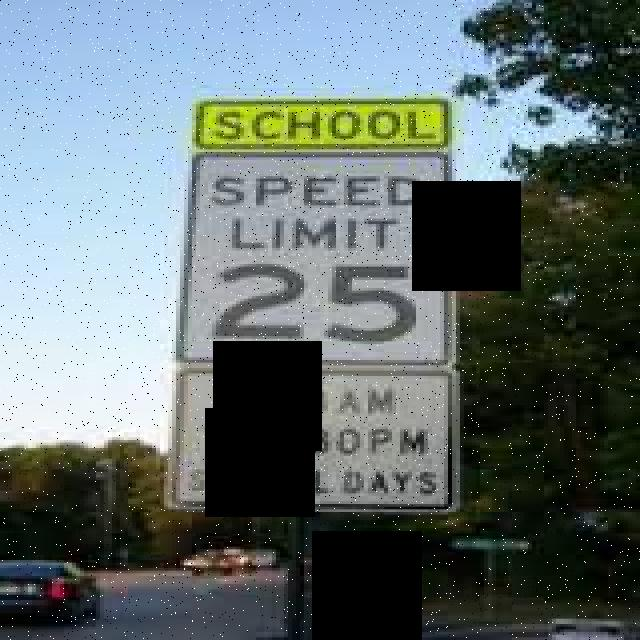regulatory: (166, 149, 464, 367), (160, 365, 470, 518)
warning: (174, 90, 496, 152)
